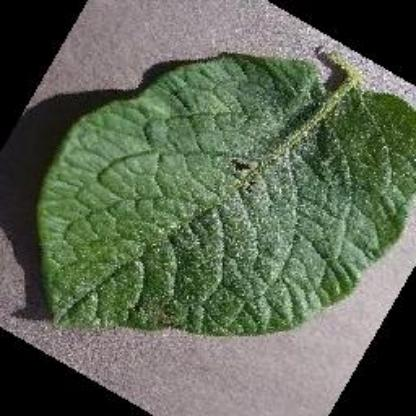Healthy-plant: (31, 45, 414, 345)
